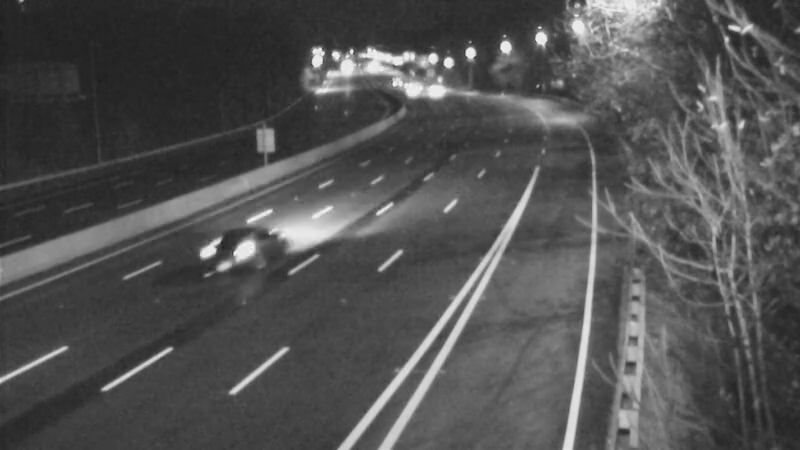vehicle: (199, 216, 279, 296), (367, 60, 417, 110), (386, 68, 436, 118), (406, 67, 456, 117)
